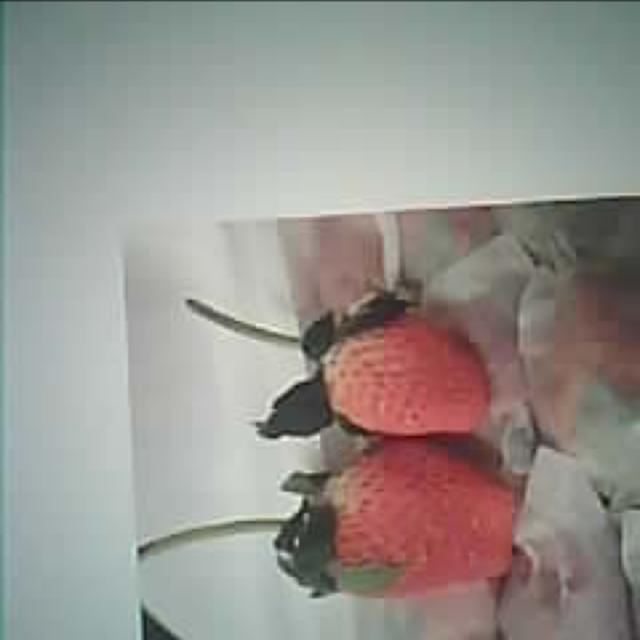ripe: (295, 444, 517, 592), (319, 313, 492, 433)
